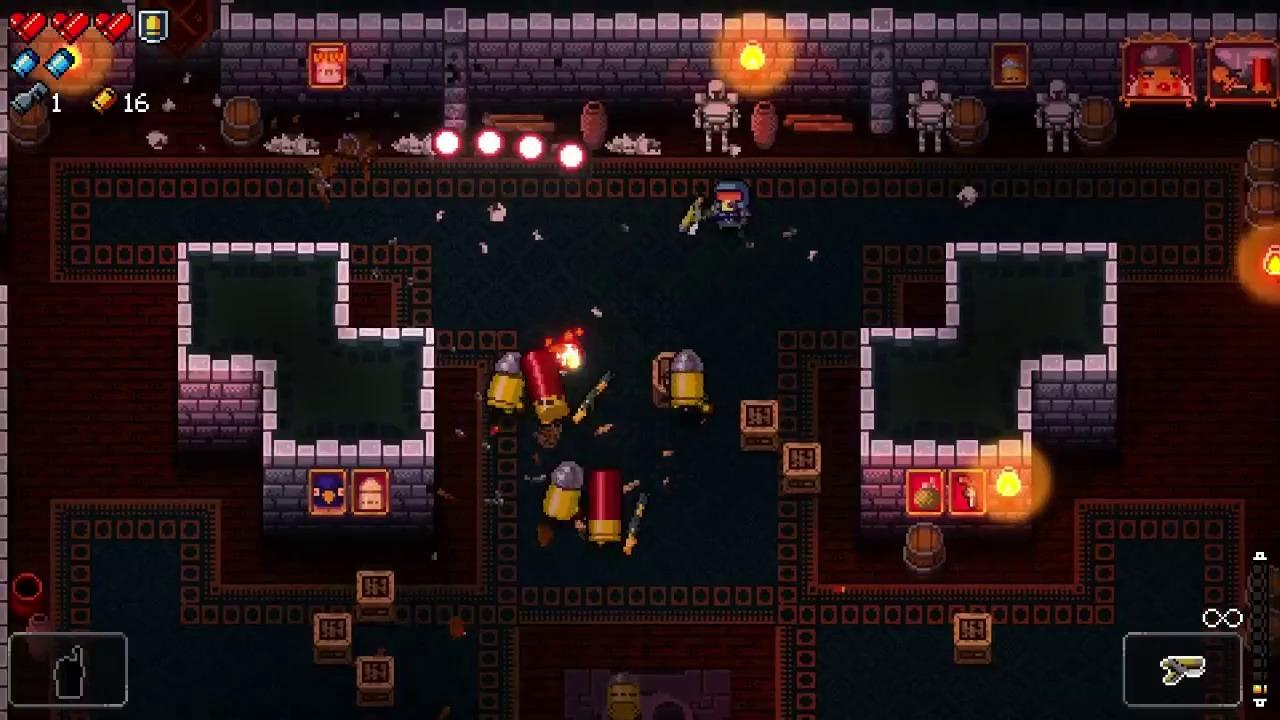bullet: (516, 131, 545, 163), (557, 142, 587, 171), (433, 130, 463, 157), (475, 129, 503, 157)
bullet_kin: (484, 351, 525, 416), (542, 460, 583, 521), (669, 348, 704, 408)
dead_bullet_kin: (606, 671, 641, 720)
player: (712, 177, 752, 236)
red_shotgun_kin: (520, 351, 571, 425), (588, 471, 624, 543)
